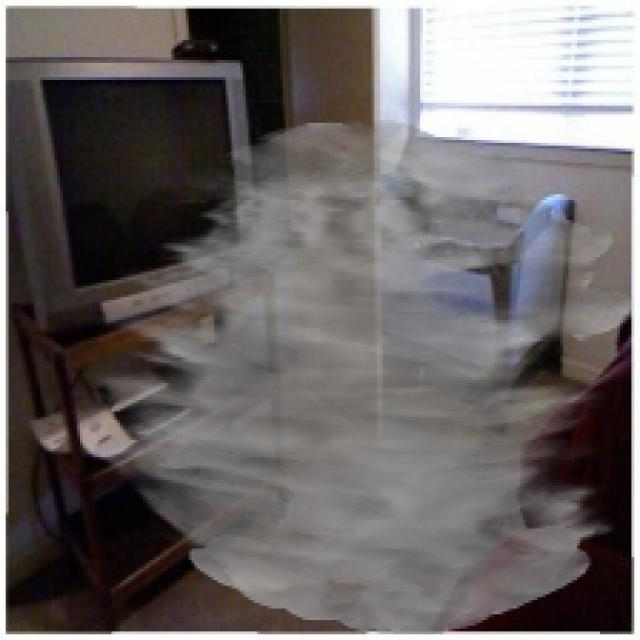smoke: (89, 120, 634, 634)
